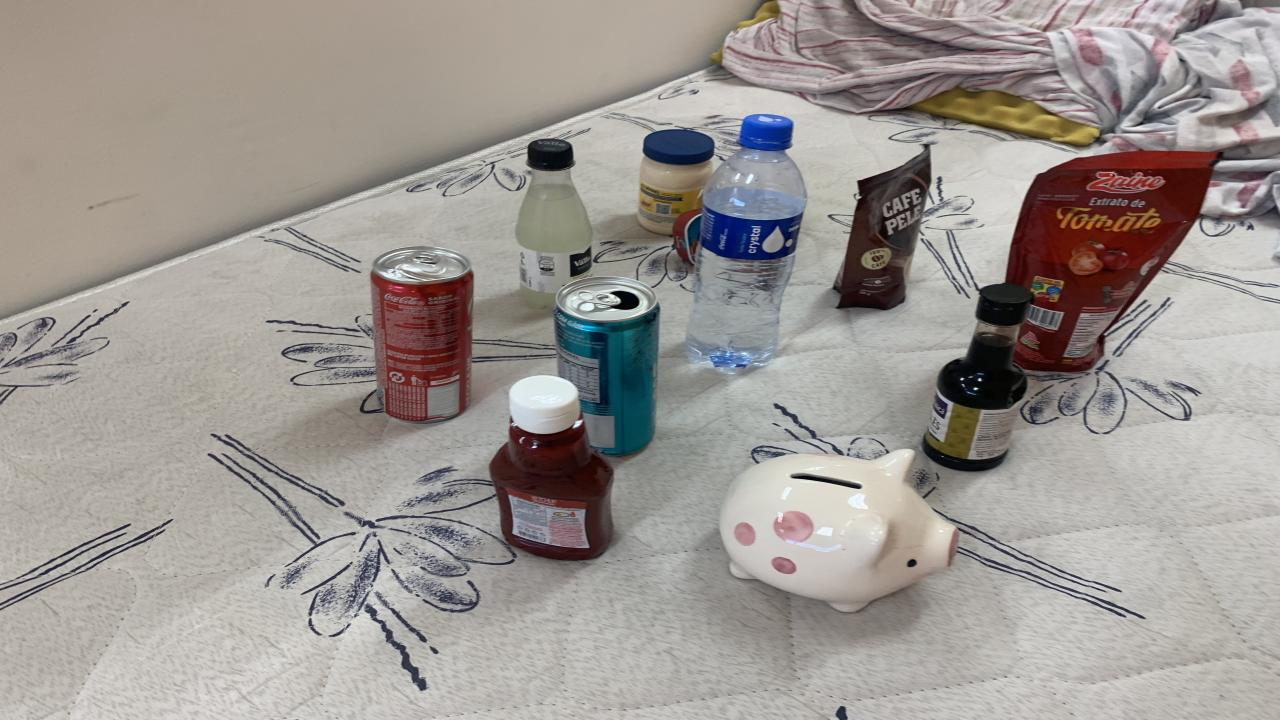Coffee-Pantry_Items: (835, 144, 930, 309)
Coke-Drinks: (370, 246, 472, 424)
English_Sauce-Pantry_Items: (922, 283, 1032, 471)
Ketchup-Pantry_Items: (490, 377, 612, 561)
Mayonnaise-Pantry_Items: (515, 139, 592, 308), (638, 129, 715, 234)
Pig_Safe-Miscellaneous: (720, 450, 960, 613)
Soda-Drinks: (515, 139, 592, 308)
Tea-Drinks: (555, 276, 660, 456)
Tomato_Sauce-Pantry_Items: (1005, 152, 1220, 371)
Water_Bottle-Drinks: (685, 114, 808, 371)
